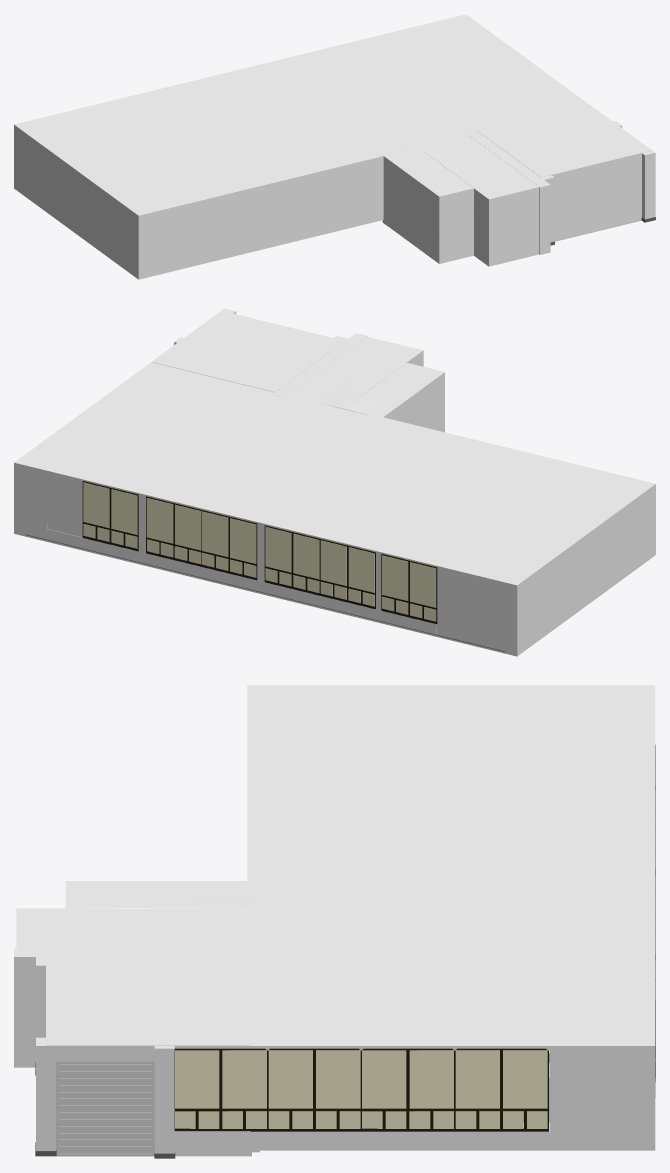
The model's file is MAP2.fbx.
3 views of the same model, one above another, from view 1: azimuth 30°, elevation 25°; view 2: azimuth 150°, elevation 25°; view 3: azimuth 270°, elevation 25° (orthographic). The views are drawn at different scales.
Parts seen in each view (by area): view 1: Cube.020, Cube.025, Cube.161, Cube.023, Cube.008, Cube.073; view 2: Cube.020, Cube.025, Cube.023, Cube.022, Cube.054, Cube.031, Cube.061, Cube.034, Cube.016, Cube.043, Cube.062, Cube.055 (+12 smaller); view 3: Cube.020, Cube.023, Cube.025, Cube.205, Cube.008, Cube.182, Cube.183, Cube.189, Cube.190, Cube.168, Cube.169, Cube.175 (+8 smaller).
Part boxes in pixels (left/top/right/bottom): Cube.020: left=14, top=14, right=588, bottom=279; Cube.025: left=382, top=135, right=539, bottom=266; Cube.161: left=138, top=156, right=383, bottom=279; Cube.023: left=478, top=104, right=651, bottom=241; Cube.008: left=465, top=130, right=550, bottom=254; Cube.073: left=642, top=150, right=655, bottom=219; Cube.020: left=14, top=362, right=655, bottom=656; Cube.025: left=289, top=336, right=444, bottom=432; Cube.023: left=152, top=310, right=344, bottom=392; Cube.022: left=82, top=538, right=436, bottom=634; Cube.054: left=146, top=498, right=173, bottom=543; Cube.031: left=293, top=533, right=319, bottom=579; Cube.061: left=83, top=482, right=109, bottom=528; Cube.034: left=410, top=562, right=436, bottom=607; Cube.016: left=320, top=540, right=346, bottom=586; Cube.043: left=202, top=511, right=228, bottom=556; Cube.062: left=111, top=489, right=137, bottom=534; Cube.055: left=175, top=504, right=201, bottom=550; Cube.020: left=248, top=685, right=655, bottom=1150; Cube.023: left=46, top=956, right=251, bottom=1156; Cube.025: left=16, top=881, right=251, bottom=948; Cube.205: left=59, top=1061, right=151, bottom=1152; Cube.008: left=14, top=948, right=259, bottom=1067; Cube.182: left=455, top=1050, right=499, bottom=1108; Cube.183: left=503, top=1050, right=547, bottom=1108; Cube.189: left=362, top=1050, right=406, bottom=1108; Cube.190: left=409, top=1050, right=453, bottom=1108; Cube.168: left=268, top=1050, right=312, bottom=1108; Cube.169: left=316, top=1050, right=360, bottom=1108; Cube.175: left=175, top=1050, right=219, bottom=1108.
Bounding box in the file's own units: 27.07 × 3.85 × 20.2.
